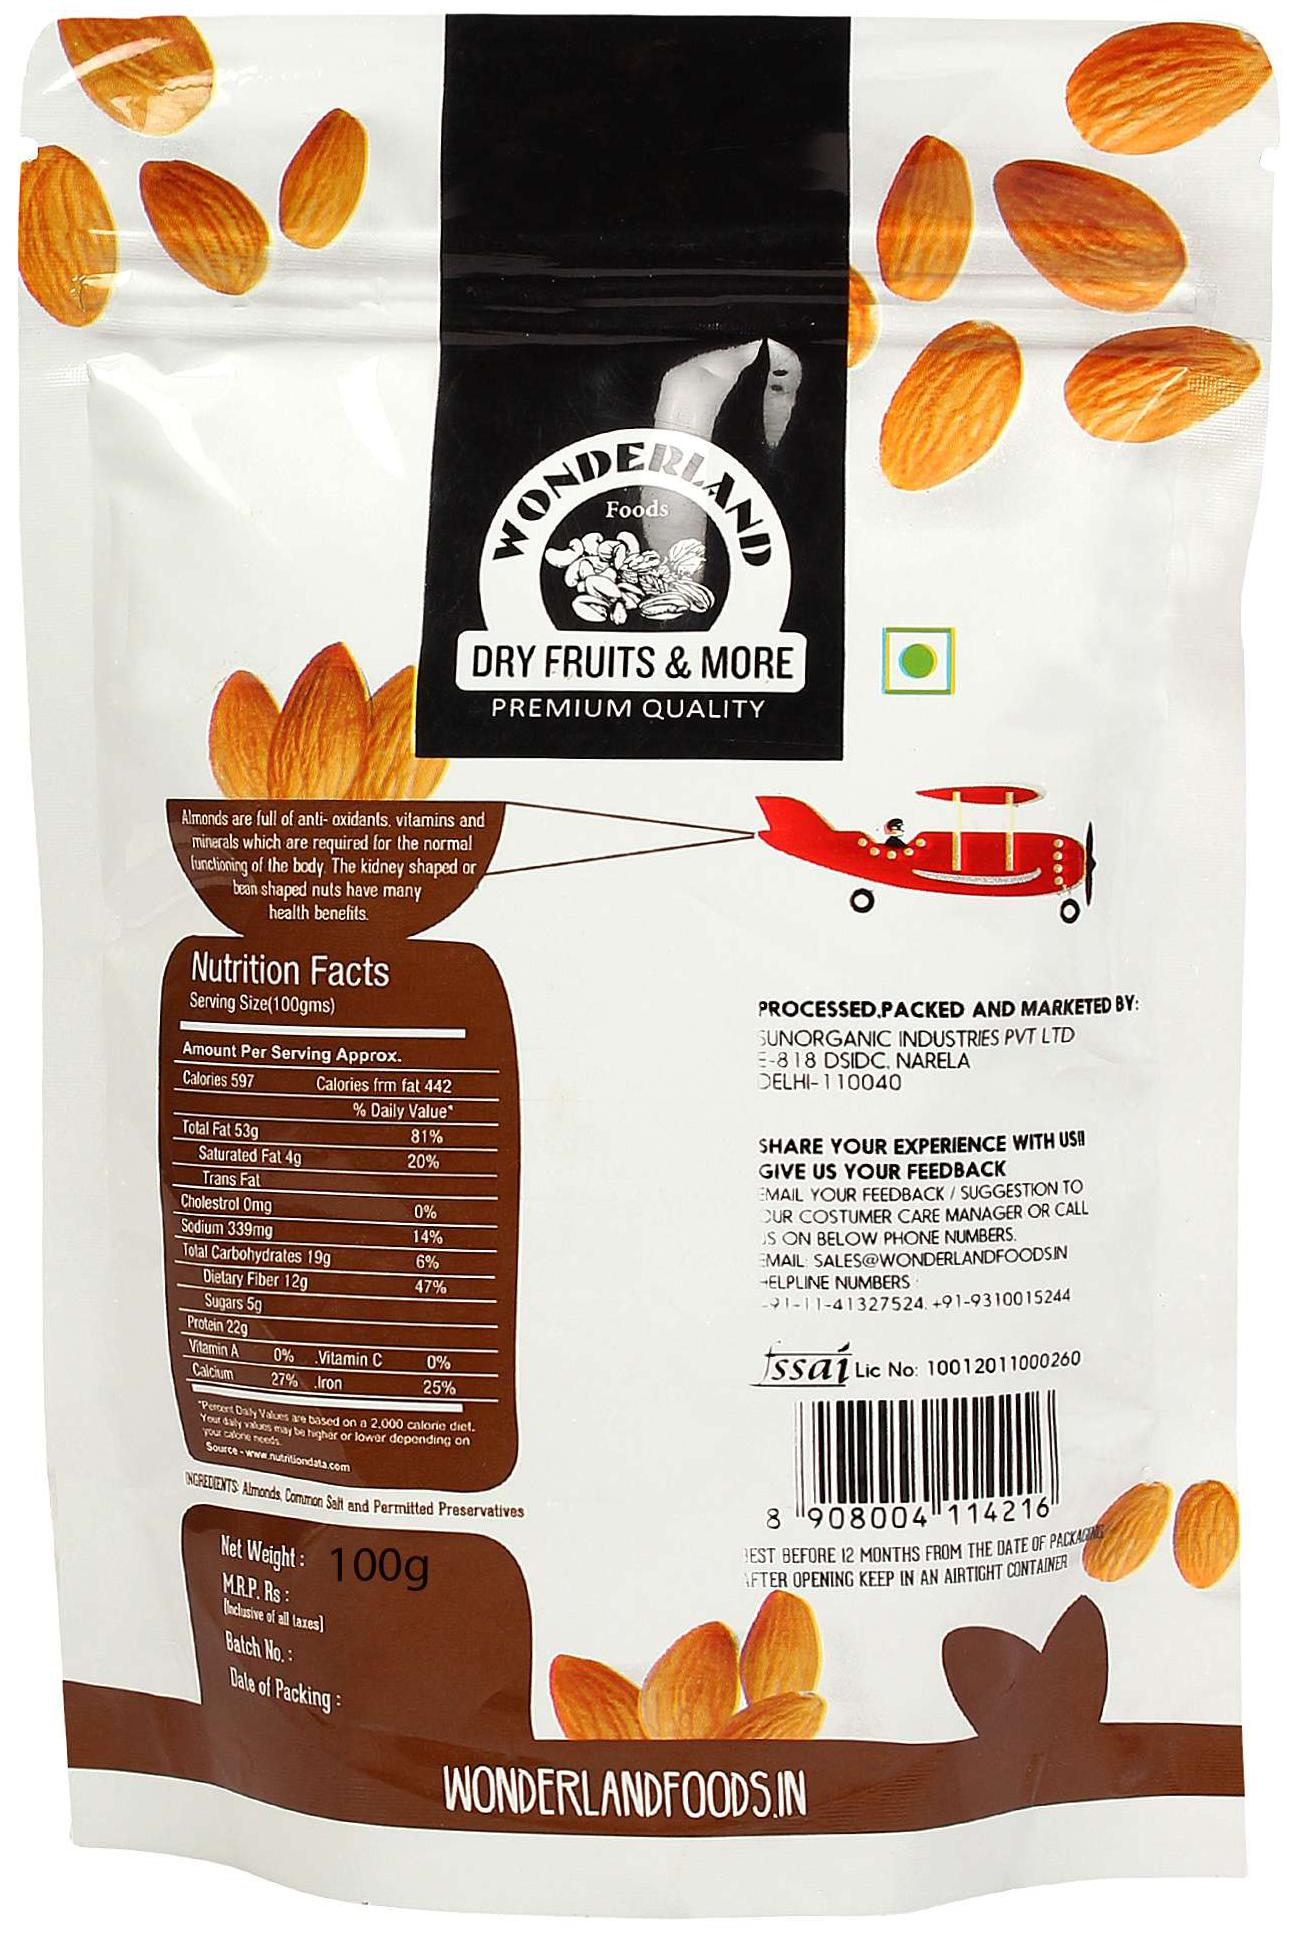fssai: (753, 1339, 851, 1389)
